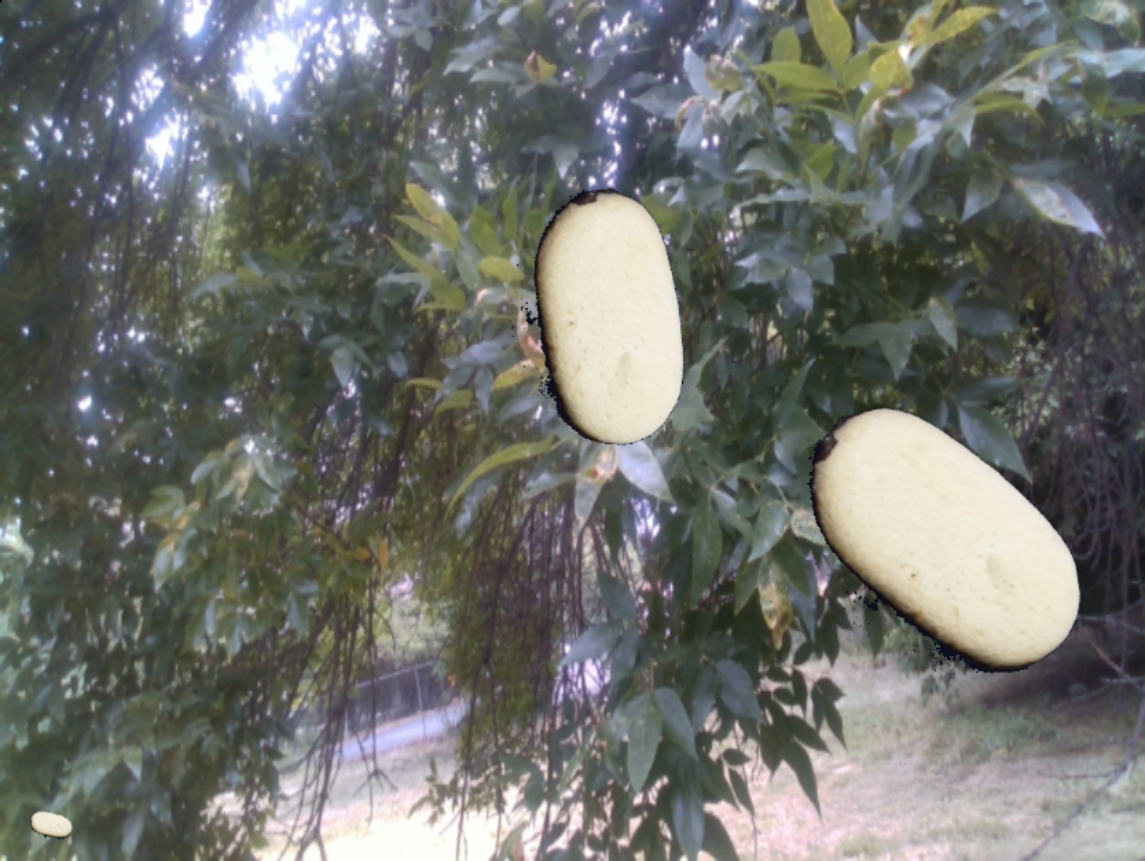test: (777, 382, 1090, 703), (444, 156, 758, 472), (23, 799, 76, 852)
